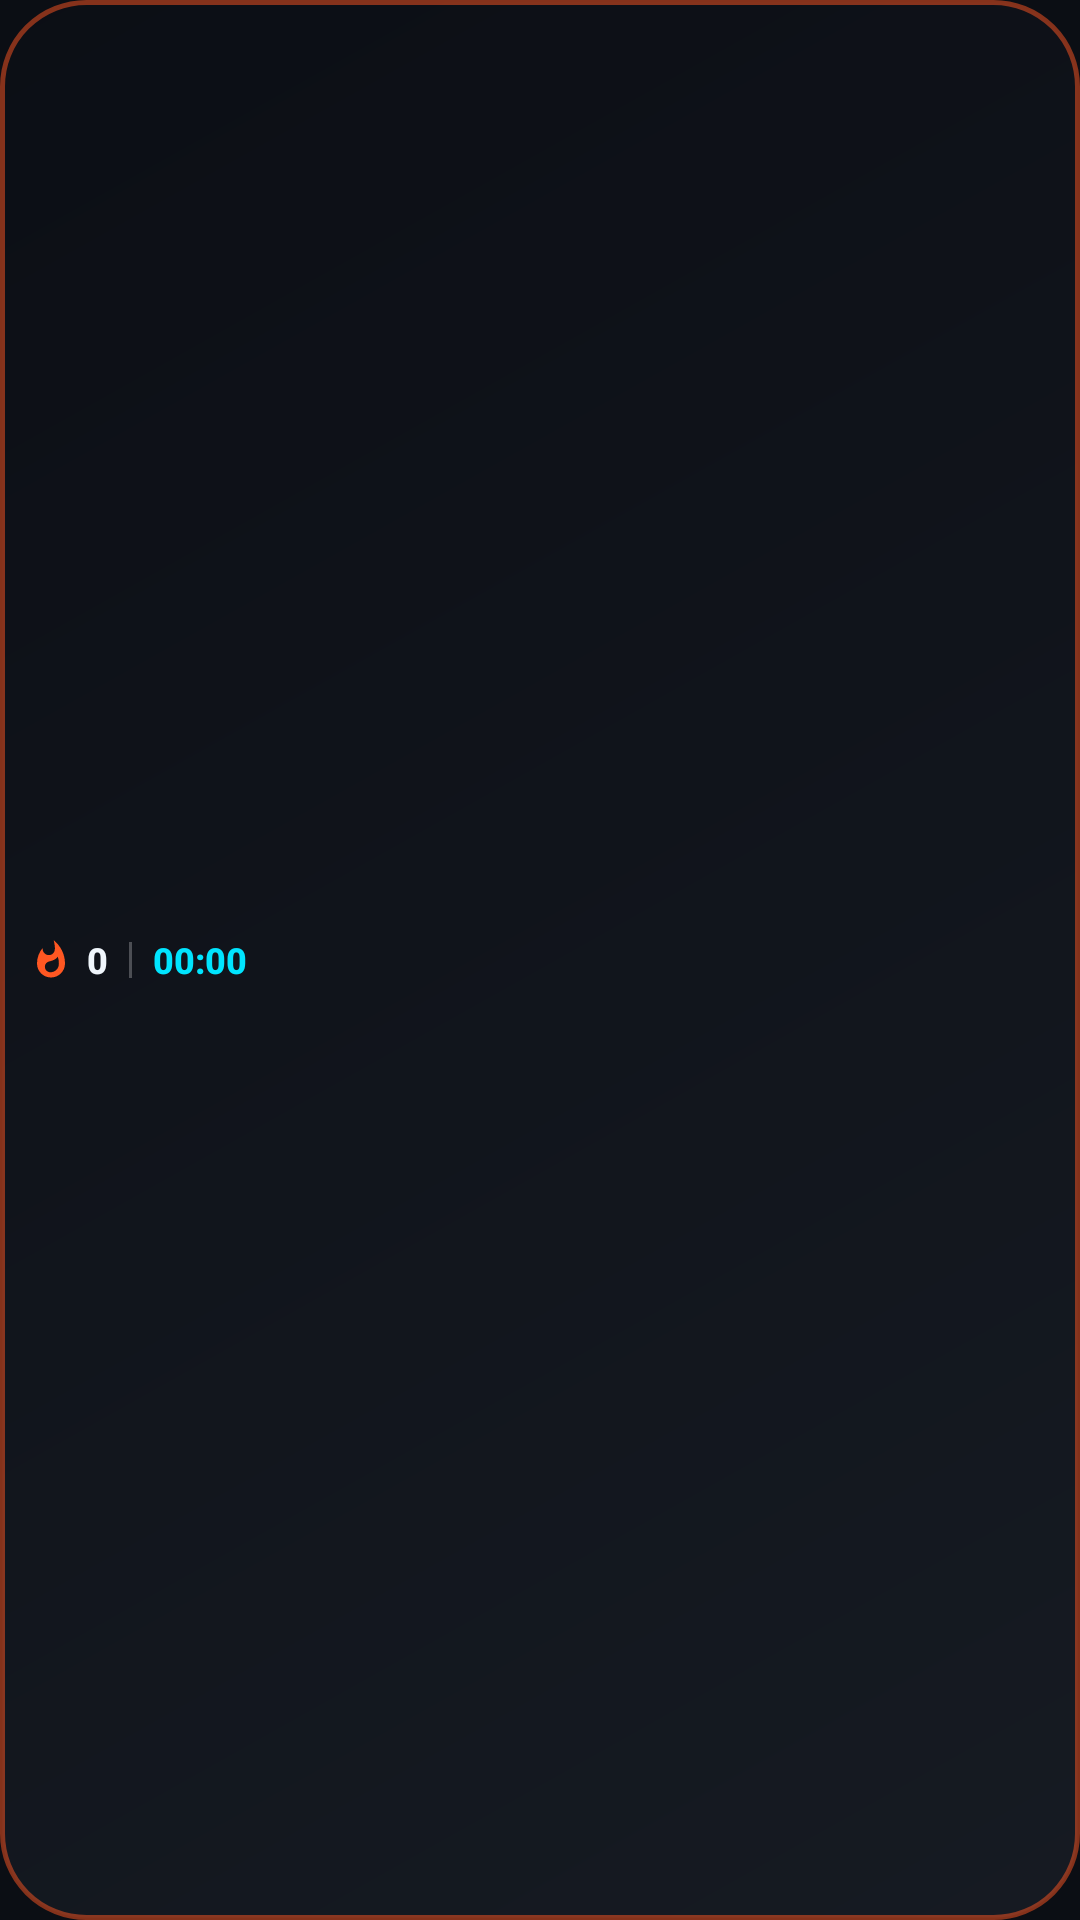

Named icons in this screenshot (1080 x 1920) and their centers, point (x, y):
flame: point (51, 959)
